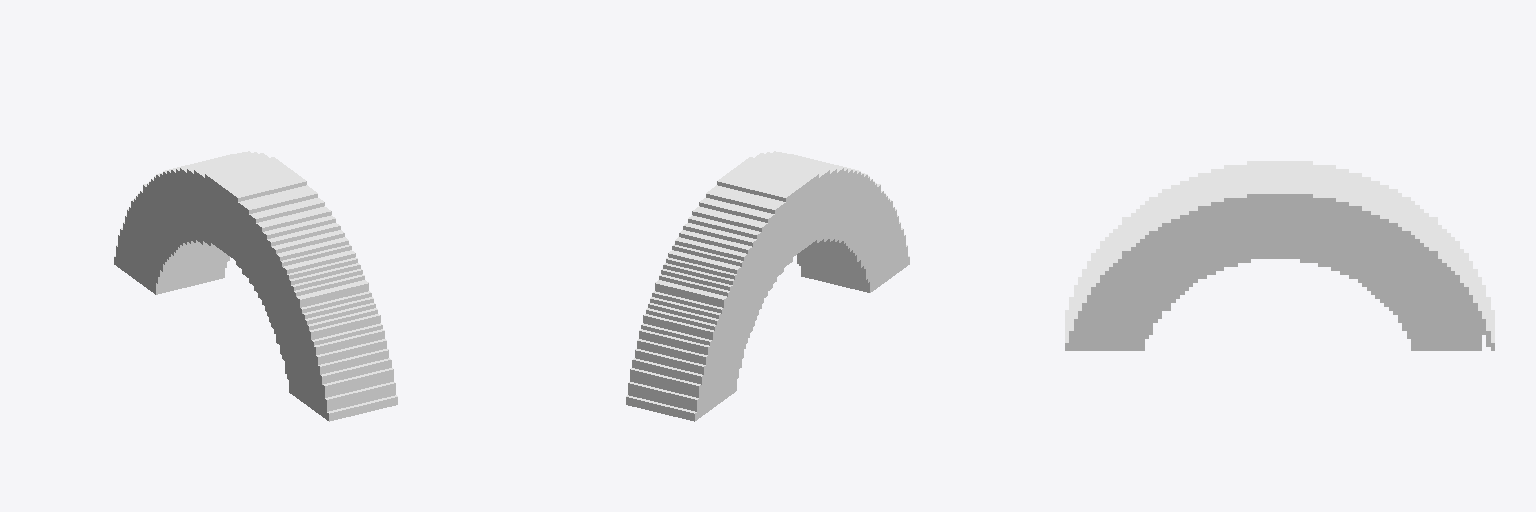
The model's file is Arcoiris.obj.
3 renders of one model, left to right at view 1: azimuth 30°, elevation 25°; view 2: azimuth 150°, elevation 25°; view 3: azimuth 270°, elevation 25°, orthographic.
Visible parts, largest first — view 1: object 1; view 2: object 1; view 3: object 1.
Boxes of the visible parts, x1=… form: object 1: x1=114, y1=151, x2=397, y2=421; object 1: x1=626, y1=151, x2=909, y2=421; object 1: x1=1065, y1=161, x2=1494, y2=350.
Bounding box in the file's own units: 1.8 × 3.9 × 9.7.